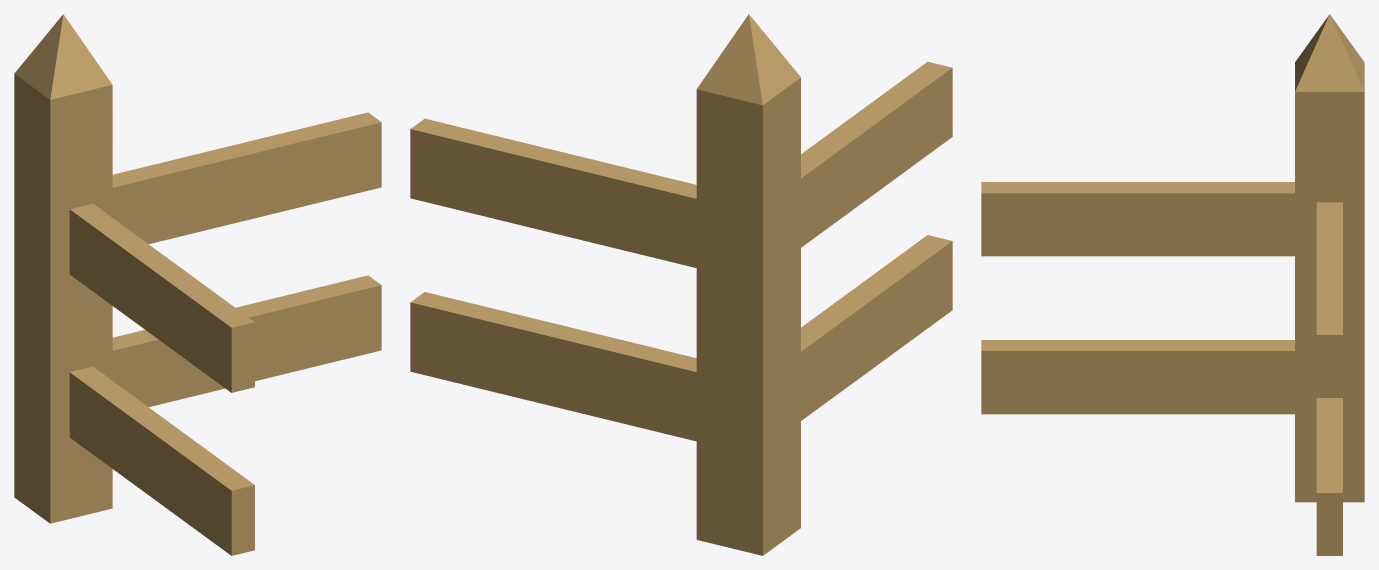
File: fence-corner-piece_.glb
3 views of the same model, side by side, from view 1: azimuth 30°, elevation 25°; view 2: azimuth 150°, elevation 25°; view 3: azimuth 270°, elevation 25° (orthographic). The views are drawn at different scales.
Parts seen in each view (by area): view 1: fence-corner-piece; view 2: fence-corner-piece; view 3: fence-corner-piece.
Boxes of the visible parts, x1,y1,x2,y2 form: fence-corner-piece: (14, 14, 381, 555); fence-corner-piece: (410, 14, 952, 555); fence-corner-piece: (981, 14, 1364, 555).
Bounding box in the file's own units: 1.1 × 1.5 × 1.1.
